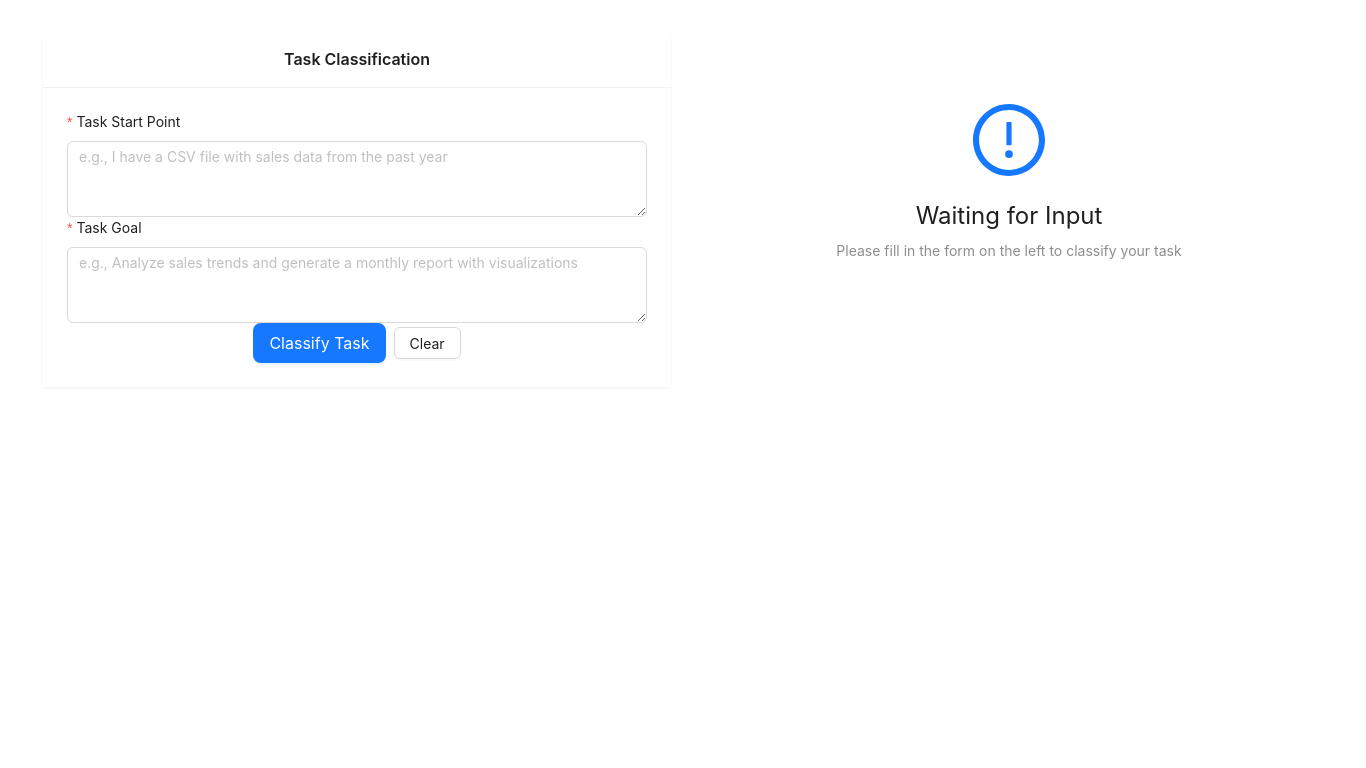
TaskClassificationPage › should display classification results
The image size is (1366, 768).
In the text box labelled "Task Start Point": (357, 179) [67,141,647,217], type "I have CSV data"
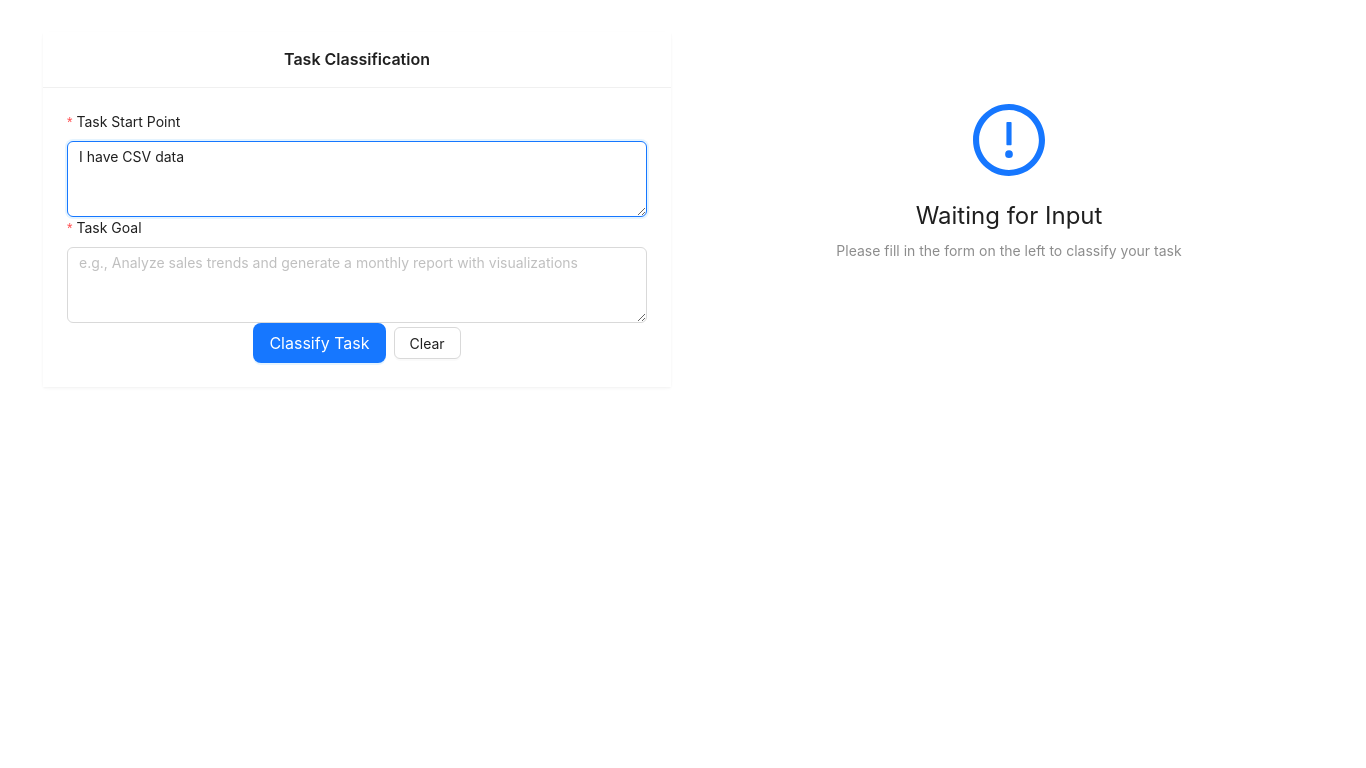
In the text box labelled "Task Goal": (357, 285) [67,247,647,323], type "Analyze sales trends"
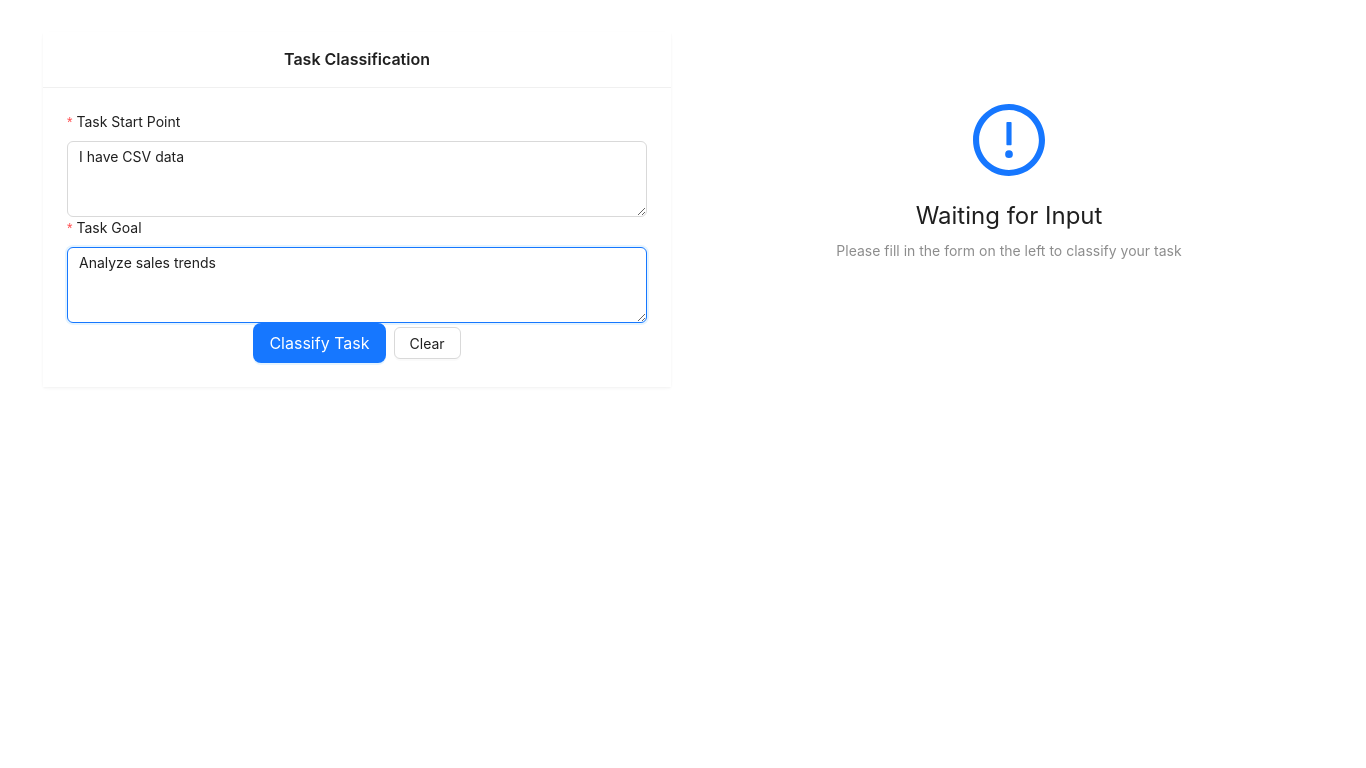
Click the button "Classify Task": (319, 343) [253,323,386,363]
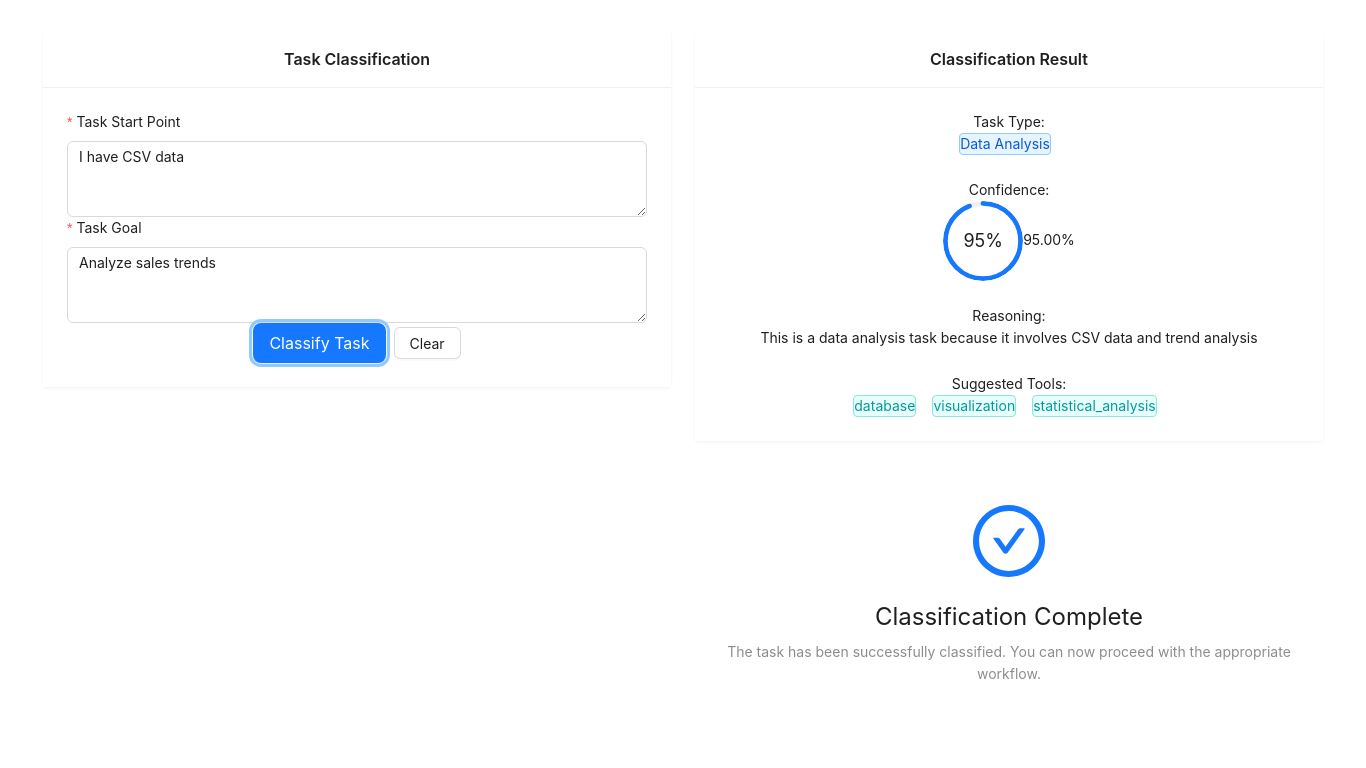
Check: the text "Data Analysis" is shown, box [959,133,1051,155]
Check: the text "95.00%" is shown, box [1023,231,1075,248]
Check: the text "This is a data analysis task" is shown, box [760,329,1258,346]
